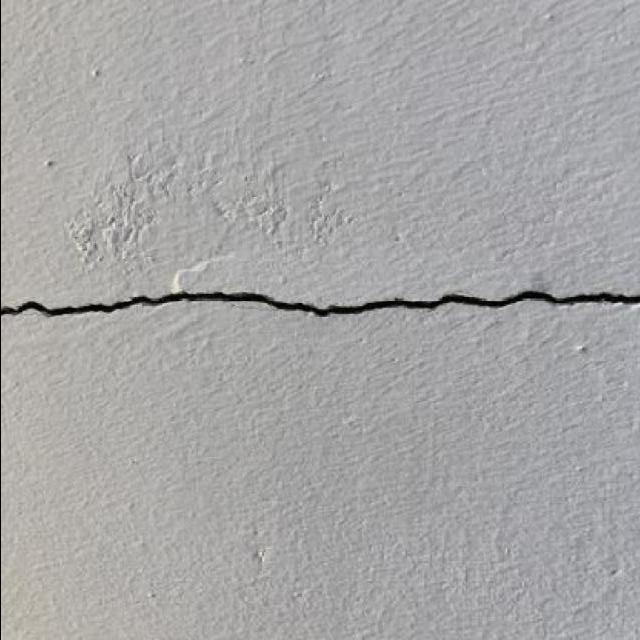crack: (0, 286, 639, 323)
